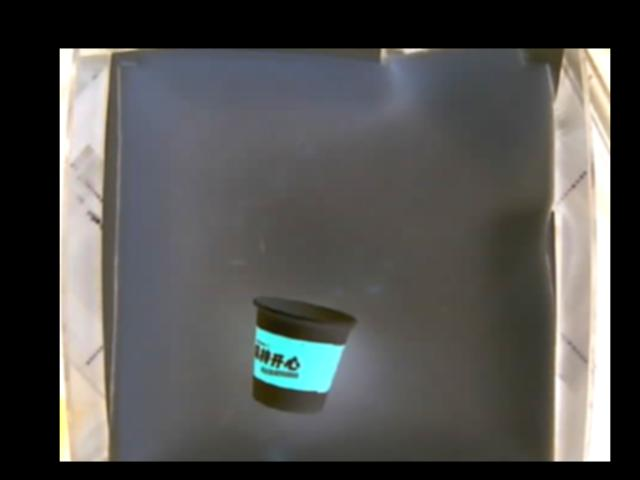Cup: (246, 293, 357, 413)
